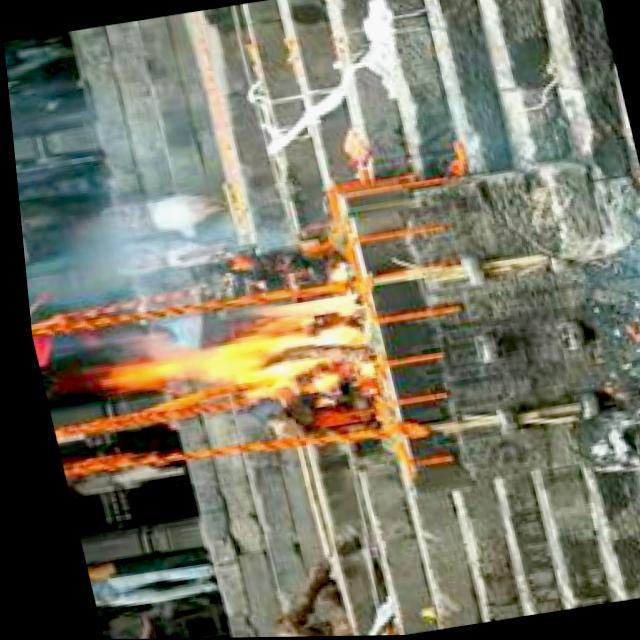helmet: (79, 282, 368, 430)
